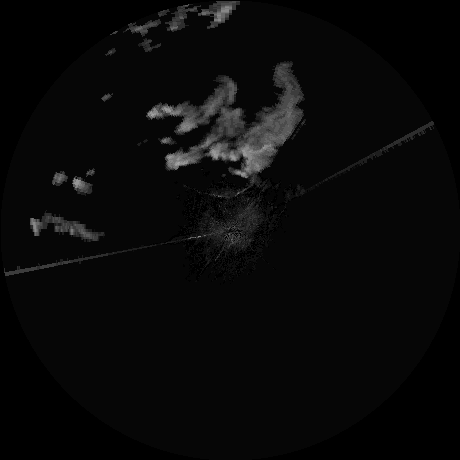frontgust: (214, 176, 256, 199)
